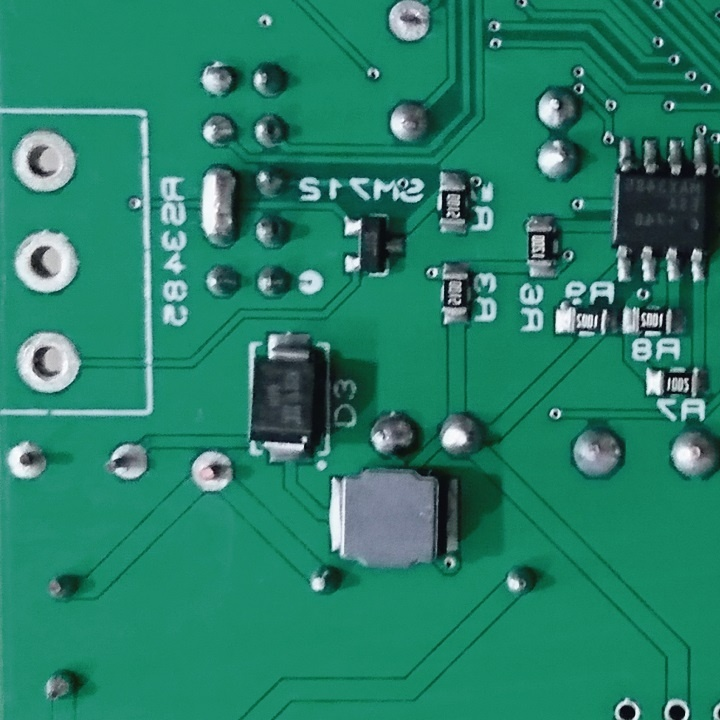F: (10, 229, 82, 300), (9, 128, 81, 198), (15, 332, 84, 398), (101, 439, 153, 489), (186, 447, 238, 495), (384, 1, 437, 44), (4, 438, 51, 486), (659, 695, 694, 720), (609, 696, 644, 720)
P: (196, 160, 244, 253)
